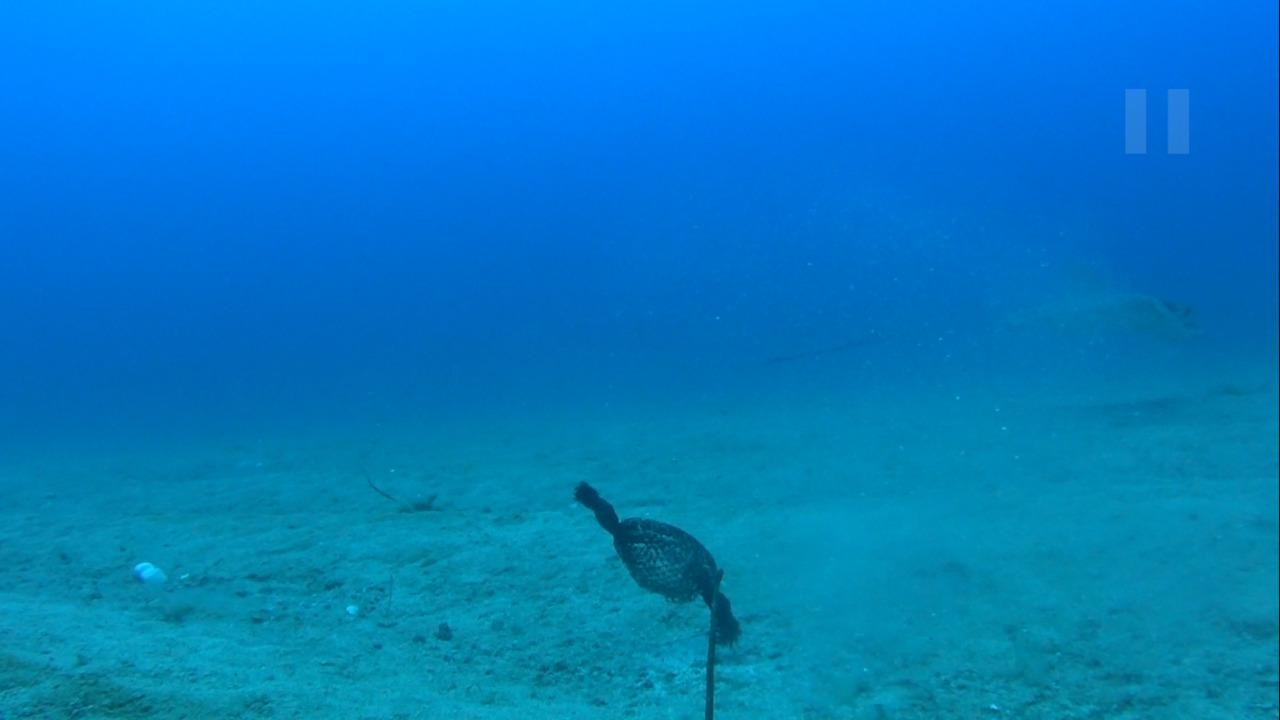myliobatis: (753, 282, 1213, 373)
